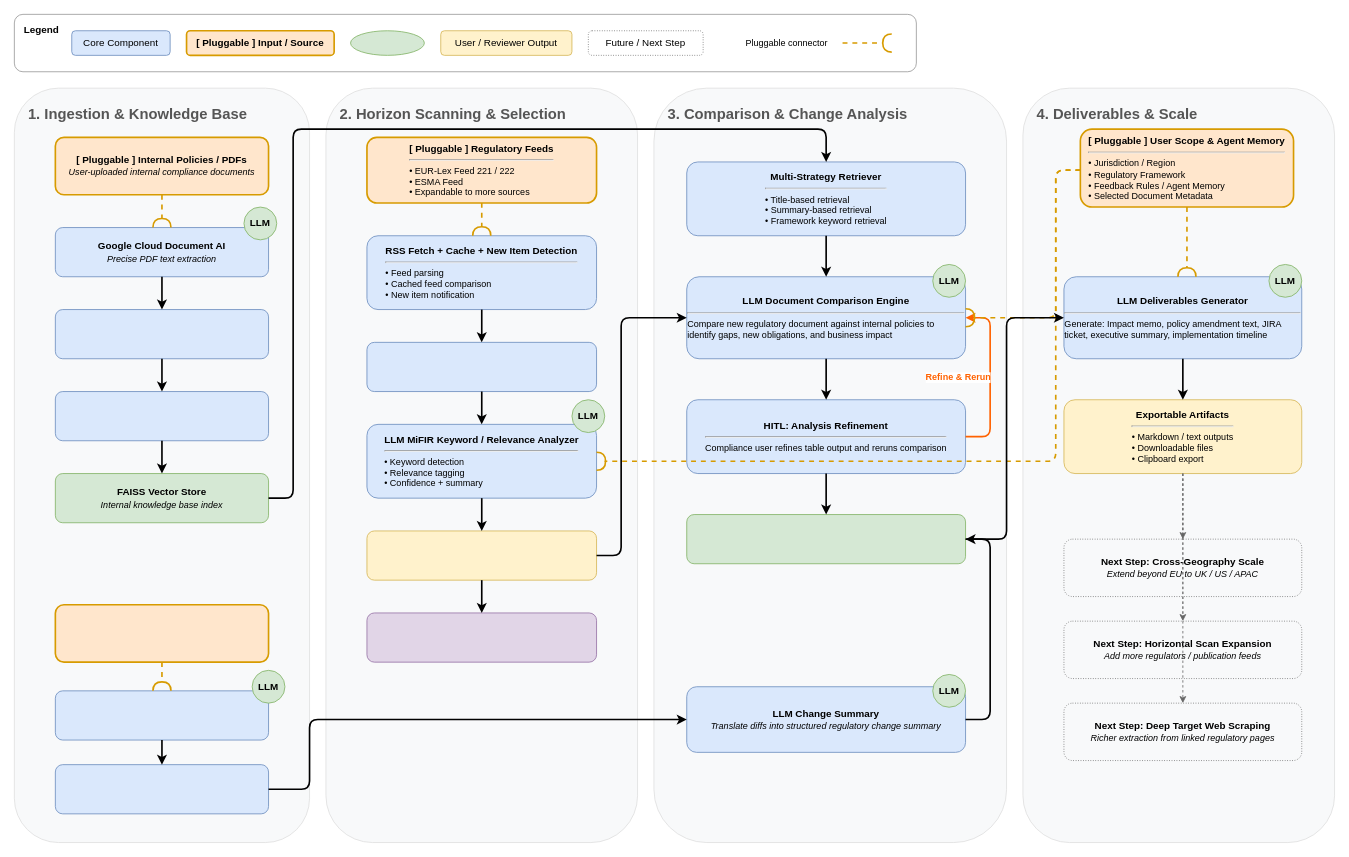
Image size: 1349x857. Some labels were removed from this diagram. Each missing label, with the centre of its shape:
"[ Pluggable ] Manual Ad-Hoc PDFs Old vs new regulation PDFs" goes at point 161,633.
"Confirmed Change Matrix Article / Previous Obligation / New Obligation / Impact" goes at point 826,539.
"Document AI Text Extraction Extract text from both PDFs" goes at point 162,715.
"LLM Agent" goes at point 387,42.
"Programmatic Diffing (difflib) Line-level additions / deletions" goes at point 162,789.
"Session State / Cache Selected doc, feed cache, analysis results" goes at point 481,637.
"Text Splitter / Chunking RecursiveCharacterTextSplitter" goes at point 162,334.
"User Document Selection User pins selected feed item for comparison" goes at point 481,555.
"Vertex AI Embeddings text-embedding-004" goes at point 162,416.
"Webpage Content Fetcher Pull target document content from URL" goes at point 481,367.
